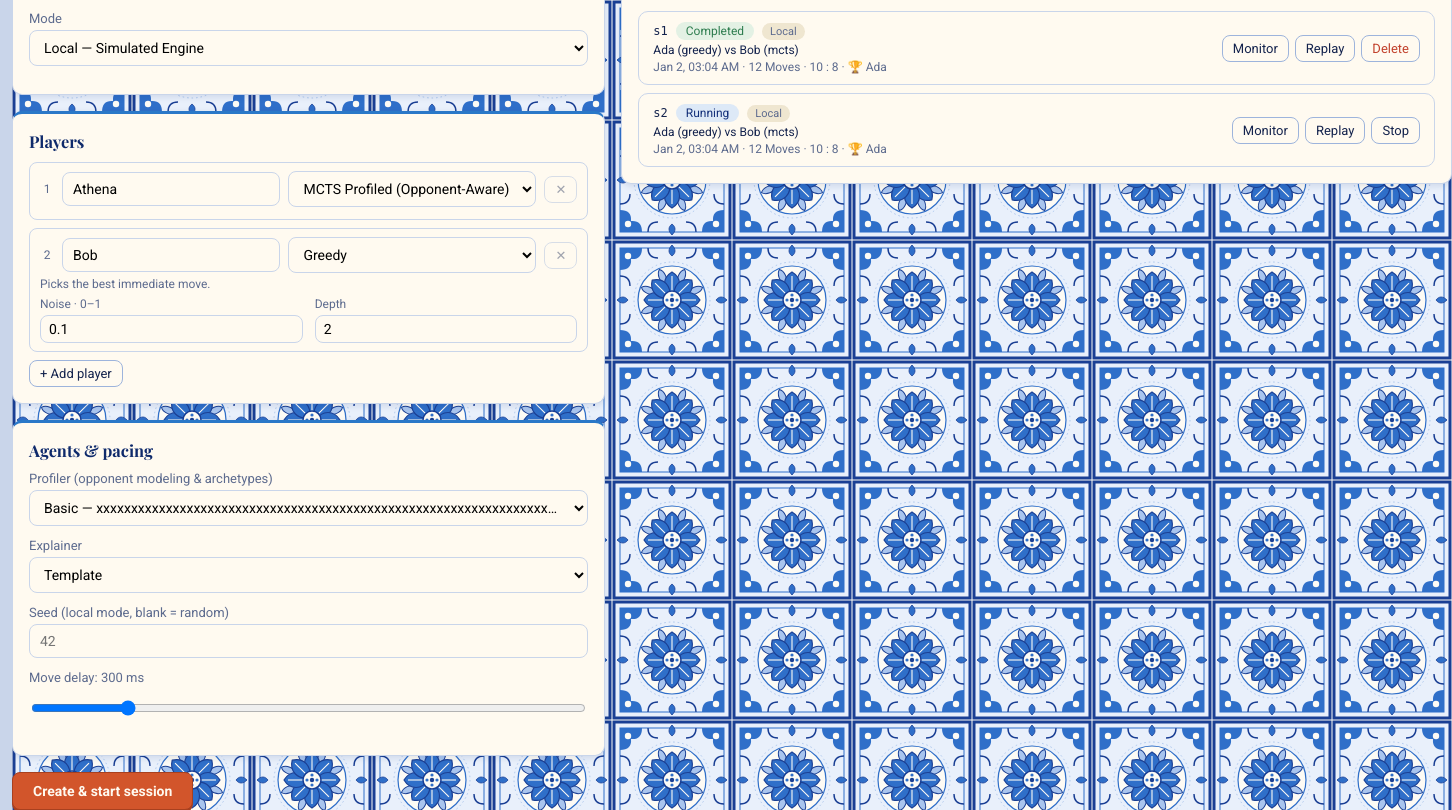
Scenario: Sessions › shows creation errors
(page scrolled)
Step 1. Click the button "Create & start session" → {"x": 103, "y": 791}, box [12,772,193,809]
(page scrolled)
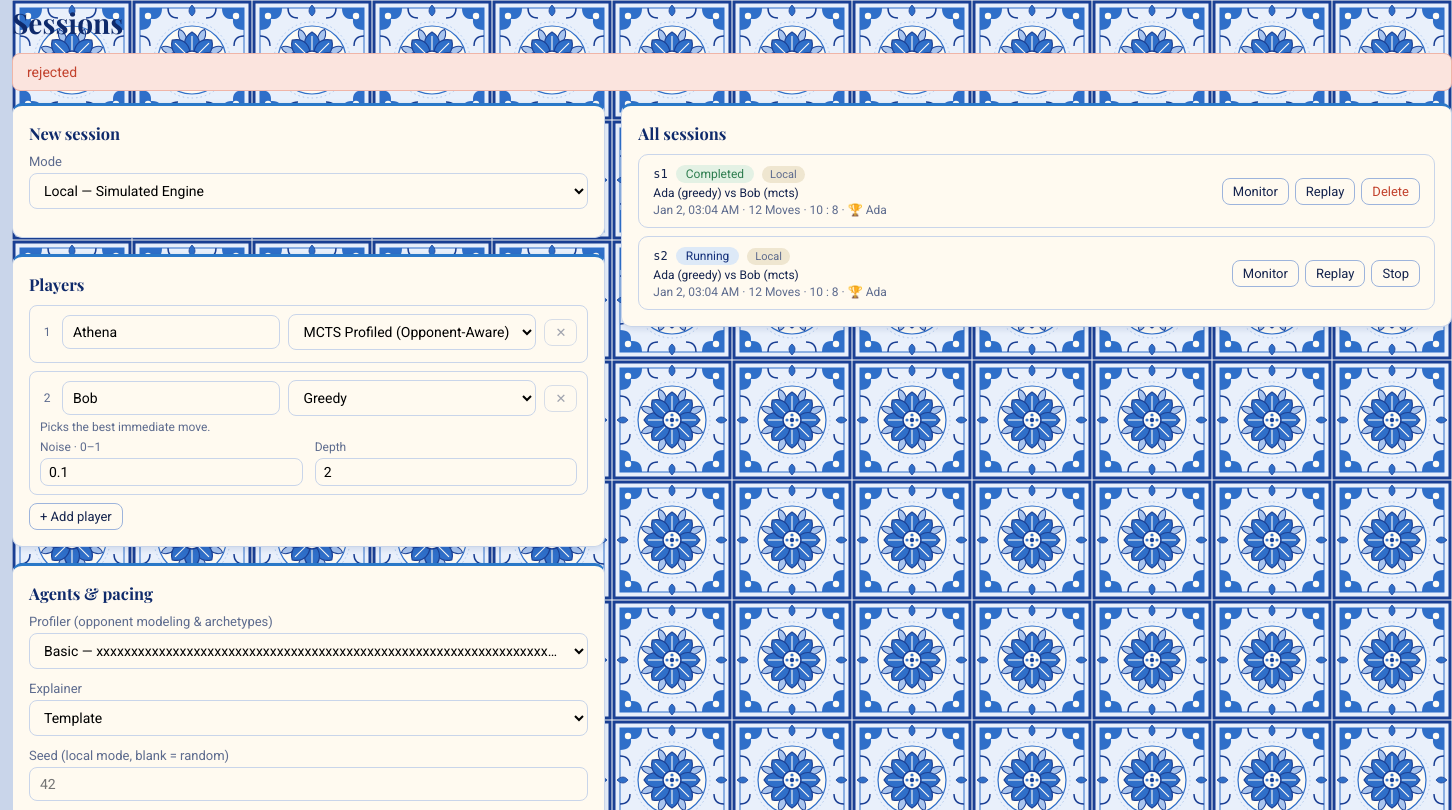
Result: the text "rejected" is shown at [12,53,1451,91]
